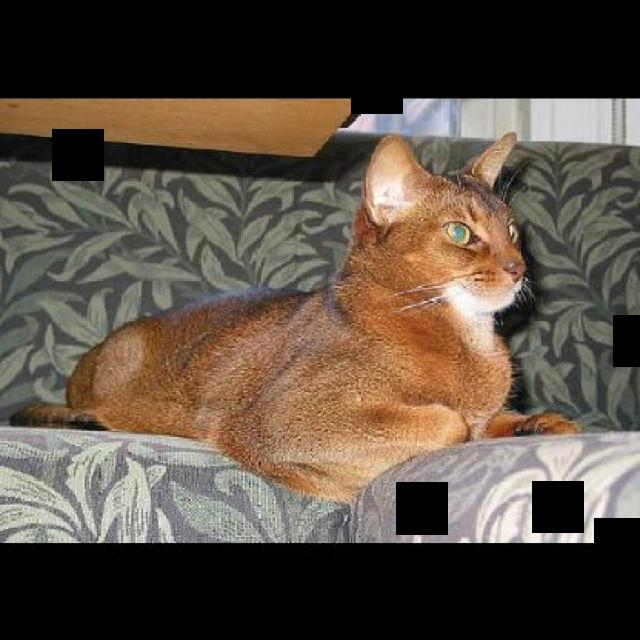unauthorized: (8, 129, 580, 505)
